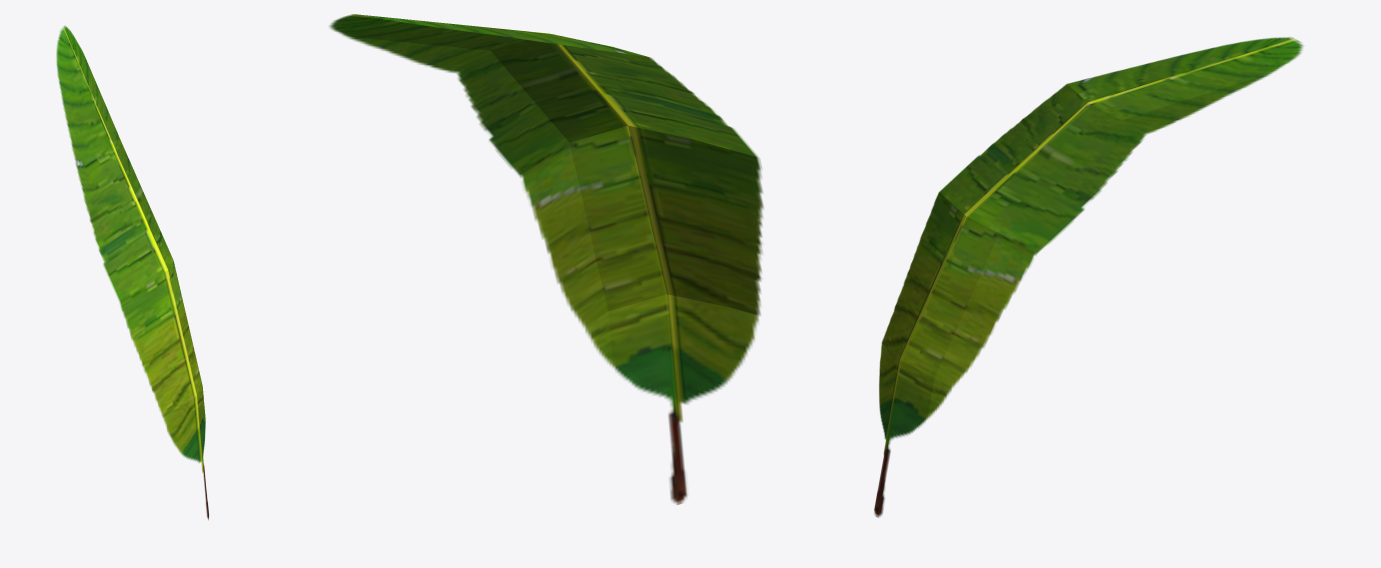
The model's file is BananaPlant_1_Leaf_2.gltf.
3 views of the same model, side by side, from view 1: azimuth 30°, elevation 25°; view 2: azimuth 150°, elevation 25°; view 3: azimuth 270°, elevation 25° (orthographic). The views are drawn at different scales.
Visible parts, largest first — view 1: BananaPlant_1_Leaf_2; view 2: BananaPlant_1_Leaf_2; view 3: BananaPlant_1_Leaf_2.
Part boxes in pixels (x1,y1,x2,y2): BananaPlant_1_Leaf_2: (56,25,208,519); BananaPlant_1_Leaf_2: (329,14,763,504); BananaPlant_1_Leaf_2: (874,37,1303,517).
Bounding box in the file's own units: 0.5686 × 1.82 × 1.7.
Materials: 1 (1 with a texture image).
